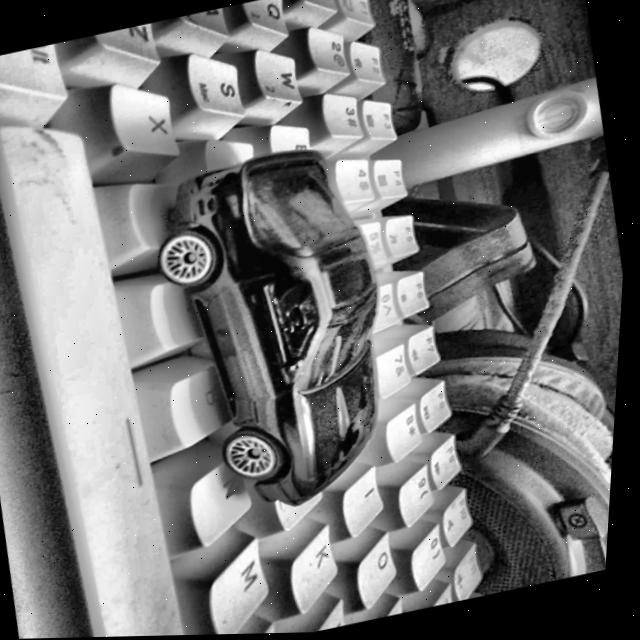car: (133, 135, 427, 530)
